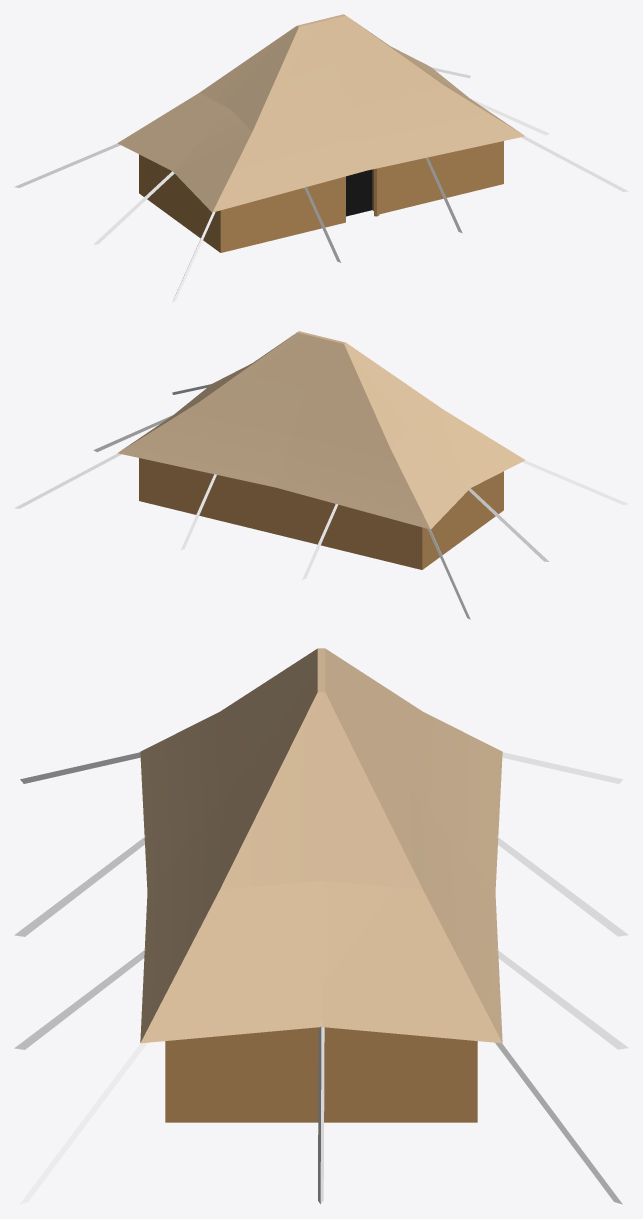
The model's file is zulu_tent-bloemfontein-big.fbx.
3 renders of one model, top to bottom at view 1: azimuth 30°, elevation 25°; view 2: azimuth 150°, elevation 25°; view 3: azimuth 270°, elevation 25°, orthographic. The views are drawn at different scales.
Visible parts, largest first — view 1: zulu_tent_bloemfontein_big; view 2: zulu_tent_bloemfontein_big; view 3: zulu_tent_bloemfontein_big.
Part boxes in pixels (bbox=[...]): zulu_tent_bloemfontein_big: bbox=[14, 14, 628, 302]; zulu_tent_bloemfontein_big: bbox=[14, 331, 627, 619]; zulu_tent_bloemfontein_big: bbox=[14, 648, 628, 1204].
Size of the model in its own units: 200 by 70.62 by 122.
